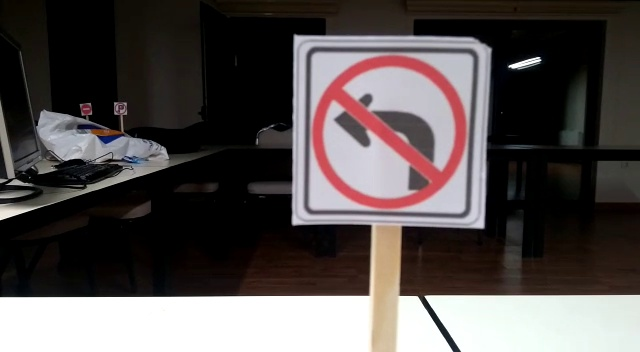sola_donulmez: (294, 38, 488, 223)
